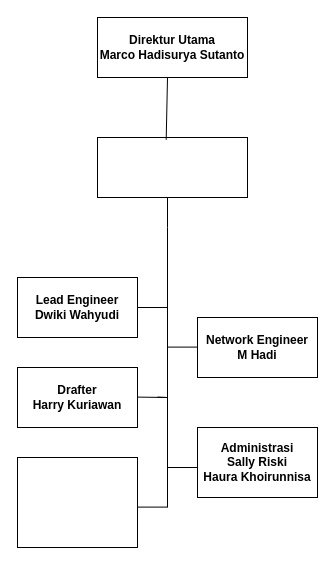
Image size: 335x565. Some labels were removed from this diagram. Here are the shapes that lost their labels. From the top down, the box of each, then its label:
(96, 136, 248, 198): Komisaris Ivana Taslim
(16, 456, 138, 548): Engineer M Rizki Ramadhan Firliansyah Baihaqie Alfarizi M Piyo Yusaizan
